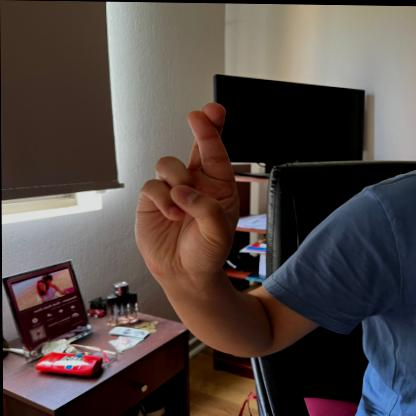R: (130, 96, 243, 279)
